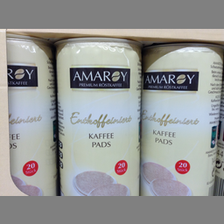coffee: (54, 38, 141, 195), (141, 43, 223, 194), (6, 33, 57, 194)
